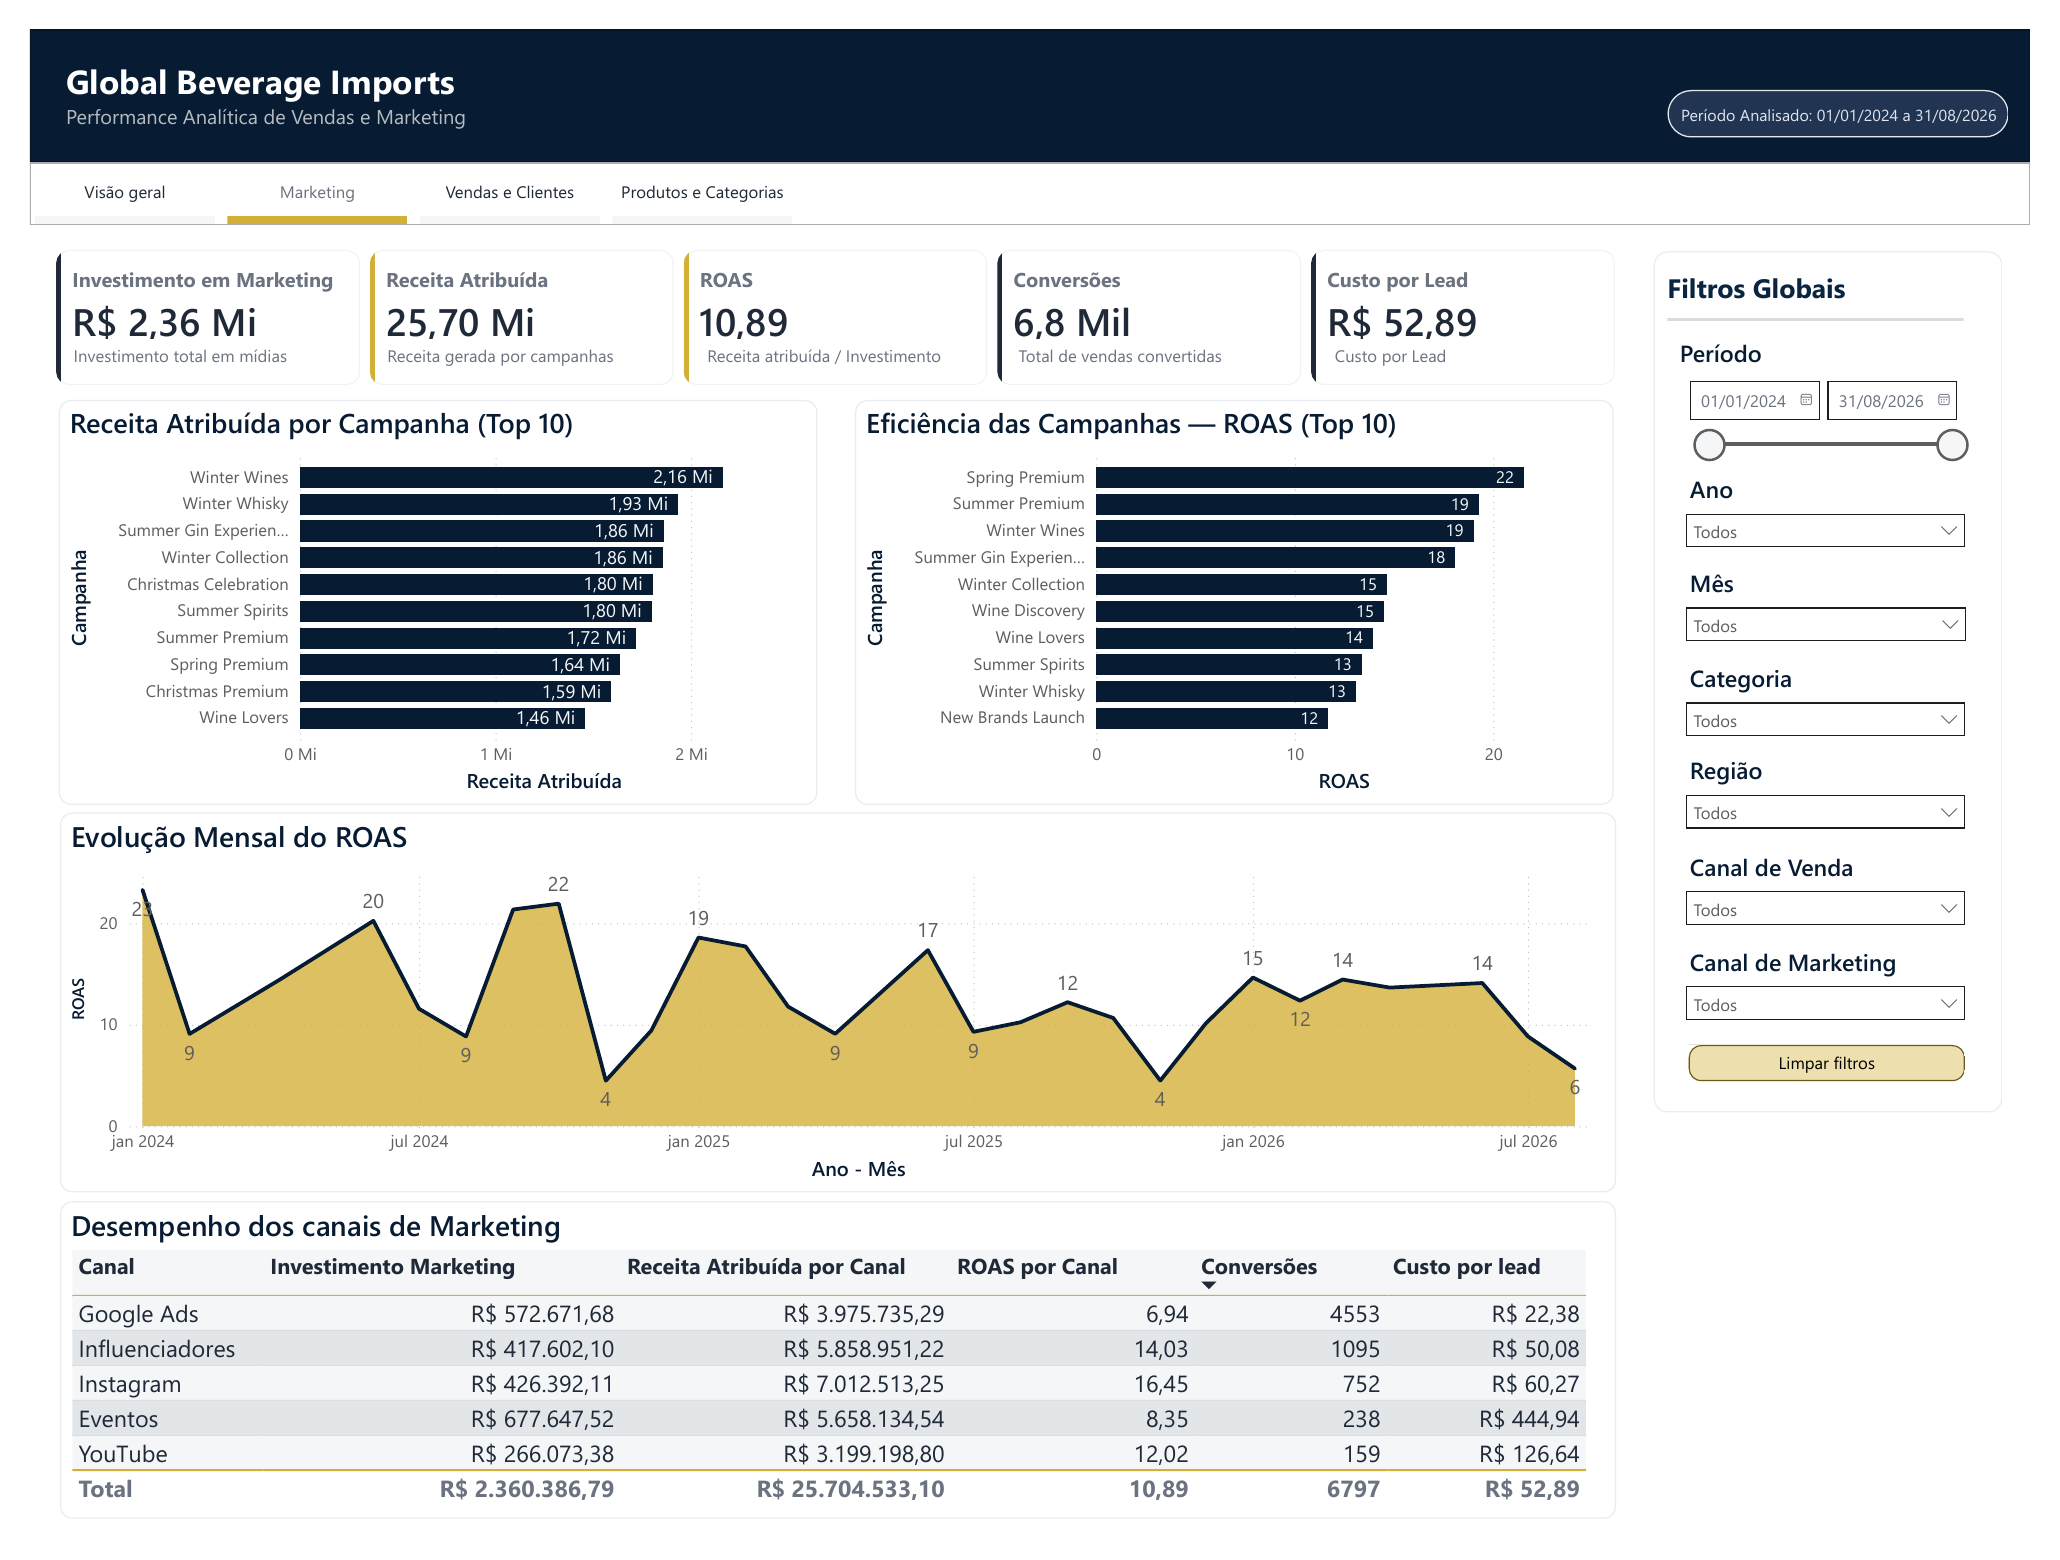

Layout of this report page (visuals, bound fields, positions):
{"tool":"powerbi","page":{"name":"Marketing","canvas":[1600,1200],"ordinal":1},"visuals":[{"type":"group","id":"g1","title":"Grupo 4","box":[0,0,1600,106.2],"z":0,"group":"g2"},{"type":"shape","box":[0,0,1600,106.2],"z":0,"group":"g1"},{"type":"textbox","box":[1315.6,53.4,273.3,32.2],"z":0,"group":"g3"},{"type":"cardVisual","fields":{"Data":["_Medidas.Investimento Marketing","_Medidas.Receita Atribuída","_Medidas.ROAS","_Medidas.Conversões","_Medidas.CPL"]},"box":[14.3,168.6,1264.3,122.9],"z":0},{"type":"shape","box":[1298.6,176.5,278.8,688.8],"z":0,"group":"g5"},{"type":"group","id":"g2","title":"Grupo 5","box":[0,0,1600,156.2],"z":1000},{"type":"textbox","box":[24.4,17.8,366.7,70],"z":1000,"group":"g1"},{"type":"shape","box":[1310,47.8,273.3,37.8],"z":1000,"group":"g3"},{"type":"shape","box":[0,106.2,1600,50],"z":1000,"group":"g2"},{"type":"slicer","title":"Período","fields":{"Values":["dim_data.Date"]},"box":[1314.8,245.3,243.8,103.8],"z":1000,"group":"g5"},{"type":"group","id":"g3","title":"Grupo 3","box":[1310,47.8,278.9,37.8],"z":2000,"group":"g1"},{"type":"group","id":"g4","title":"Grupo 6","box":[4.2,110.3,606.5,45.3],"z":2000},{"type":"slicer","fields":{"Values":["dim_produto.Category"]},"box":[1314.8,500.3,242.5,73.8],"z":2000,"group":"g5"},{"type":"group","id":"g5","title":"Grupo 2","box":[1298.6,176.5,278.6,688.6],"z":3000},{"type":"slicer","fields":{"Values":["dim_cliente.Region"]},"box":[1314.8,574,242.5,77.5],"z":3000,"group":"g5"},{"type":"pageNavigator","box":[4.2,111.3,606.2,43.8],"z":3001,"group":"g4"},{"type":"pageNavigator","box":[4.2,110.3,606.5,39.4],"z":3501,"group":"g4"},{"type":"textbox","box":[281.4,247.1,220,28.6],"z":4000},{"type":"slicer","fields":{"Values":["dim_canal_vendas.Sales_Channel"]},"box":[1314.8,651.5,242.5,76.2],"z":4000,"group":"g5"},{"type":"textbox","box":[1304.8,186.5,210,41.2],"z":5000,"group":"g5"},{"type":"textbox","box":[30,247.1,220,28.6],"z":5000},{"type":"barChart","title":"Receita Atribuída por Campanha (Top 10)","fields":{"Category":["dim_campanha.Campaign_Name"],"Y":["_Medidas.Receita Atribuída"]},"box":[22.9,295.7,607.1,324.3],"z":5000,"group":"g6"},{"type":"shape","box":[1309.8,214,236.2,33.8],"z":6000,"group":"g5"},{"type":"textbox","box":[537.1,247.1,220,28.6],"z":6000},{"type":"textbox","box":[785.7,247.1,220,28.6],"z":7000},{"type":"barChart","title":"Eficiência das Campanhas — ROAS (Top 10)","fields":{"Category":["dim_campanha.Campaign_Name"],"Y":["_Medidas.ROAS"]},"box":[660,295.7,607.1,324.3],"z":7000,"group":"g6"},{"type":"slicer","title":"Período","fields":{"Values":["dim_data.Year"]},"box":[1314.8,349,242.5,75],"z":7000,"group":"g5"},{"type":"textbox","box":[1038.6,247.1,220,28.6],"z":8000},{"type":"slicer","title":"Período","fields":{"Values":["dim_data.Month"]},"box":[1314.8,424,243.8,75],"z":8000,"group":"g5"},{"type":"group","id":"g6","title":"Grupo 1","box":[22.9,295.7,1244.3,324.3],"z":9000},{"type":"slicer","fields":{"Values":["dim_canal_marketing.Marketing_Channel"]},"box":[1314.8,727.7,242.5,83.8],"z":9000,"group":"g5"},{"type":"lineChart","title":"Evolução Mensal do ROAS","fields":{"Y":["_Medidas.ROAS"],"Category":["dim_data.Year_Month"]},"box":[24.3,625.7,1244.3,304.3],"z":10000},{"type":"actionButton","box":[1326.1,811.5,221.2,28.8],"z":10000,"group":"g5"},{"type":"tableEx","title":"Desempenho dos canais de Marketing","fields":{"Values":["dim_canal_marketing.Marketing_Channel","_Medidas.Investimento Marketing","_Medidas.Receita Atribuída por Canal","_Medidas.ROAS por Canal","_Medidas.Conversões","_Medidas.CPL"]},"box":[24.3,937.1,1244.3,254.3],"z":11000}]}

Visuals, with their boxes in screenshot pixels (x1, y1, x2, y2), scaled from the page's 1600x1200 canvas onto the 2060x1560 screenshot:
"Grupo 4" group: 0,0,2059,138
shape: 0,0,2059,138
textbox: 1694,69,2046,111
cardVisual - _Medidas.Investimento Marketing x _Medidas.Receita Atribuída: 18,219,1646,379
shape: 1672,229,2031,1125
"Grupo 5" group: 0,0,2059,203
textbox: 31,23,504,114
shape: 1687,62,2038,111
shape: 0,138,2059,203
"Período" slicer: 1693,319,2007,454
"Grupo 3" group: 1687,62,2046,111
"Grupo 6" group: 5,143,786,202
slicer - dim_produto.Category: 1693,650,2005,746
"Grupo 2" group: 1672,229,2031,1125
slicer - dim_cliente.Region: 1693,746,2005,847
pageNavigator: 5,145,786,202
pageNavigator: 5,143,786,195
textbox: 362,321,646,358
slicer - dim_canal_vendas.Sales_Channel: 1693,847,2005,946
textbox: 1680,242,1950,296
textbox: 39,321,322,358
"Receita Atribuída por Campanha (Top 10)" barChart: 29,384,811,806
shape: 1686,278,1990,322
textbox: 692,321,975,358
textbox: 1012,321,1295,358
"Eficiência das Campanhas — ROAS (Top 10)" barChart: 850,384,1631,806
"Período" slicer: 1693,454,2005,551
textbox: 1337,321,1620,358
"Período" slicer: 1693,551,2007,649
"Grupo 1" group: 29,384,1632,806
slicer - dim_canal_marketing.Marketing_Channel: 1693,946,2005,1055
"Evolução Mensal do ROAS" lineChart: 31,813,1633,1209
actionButton: 1707,1055,1992,1092
"Desempenho dos canais de Marketing" tableEx: 31,1218,1633,1549
